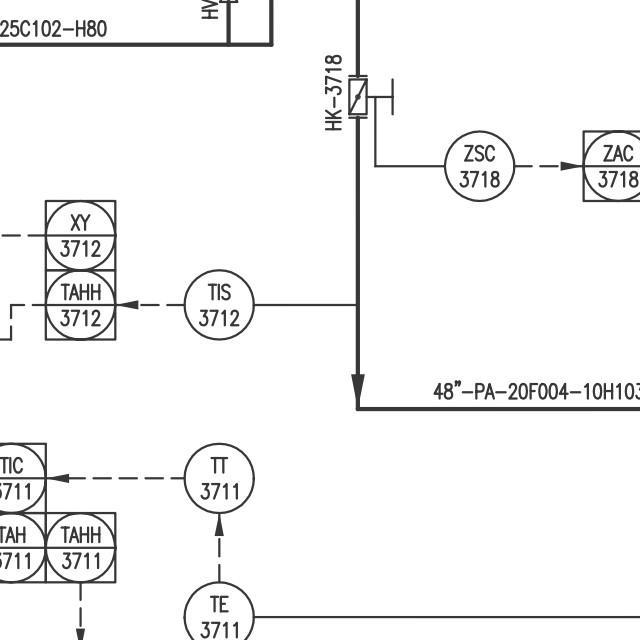BV: (343, 70, 401, 124)
